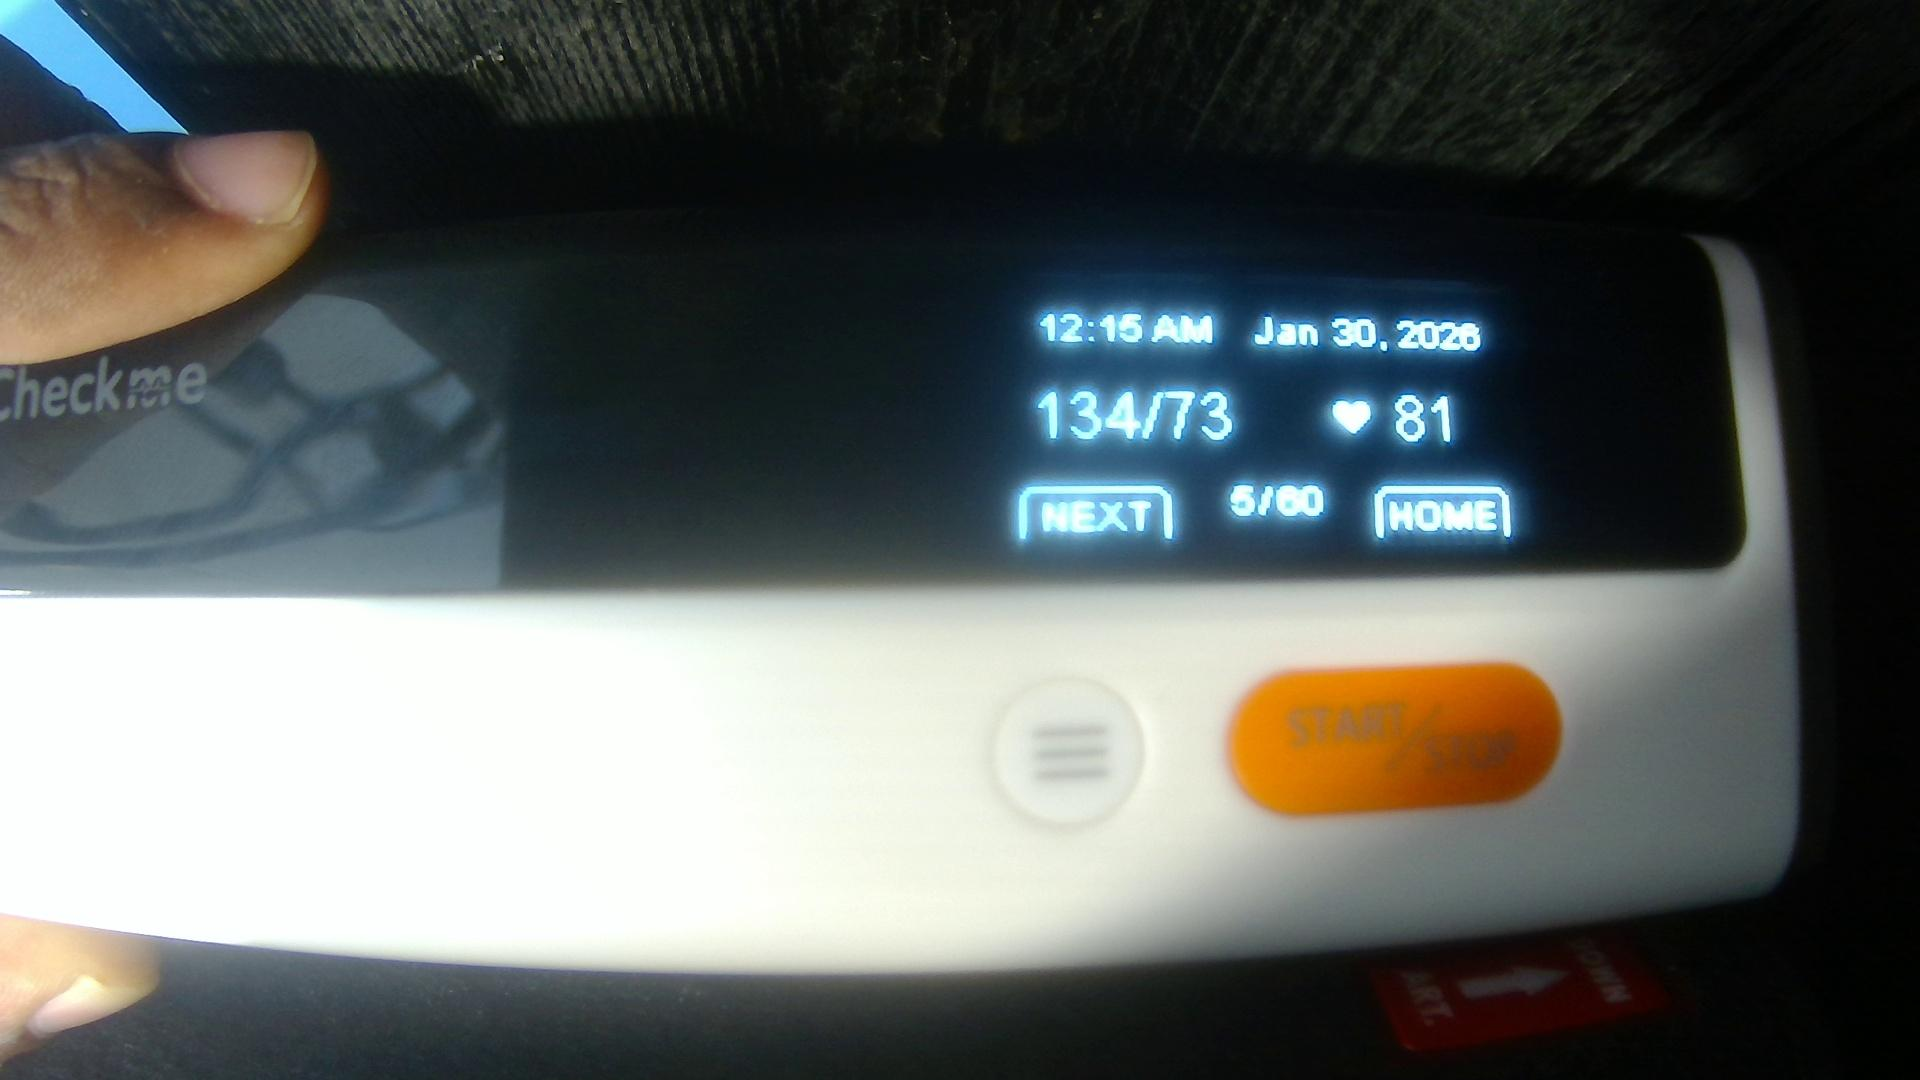DISPLAY: (332, 236, 1722, 587)
